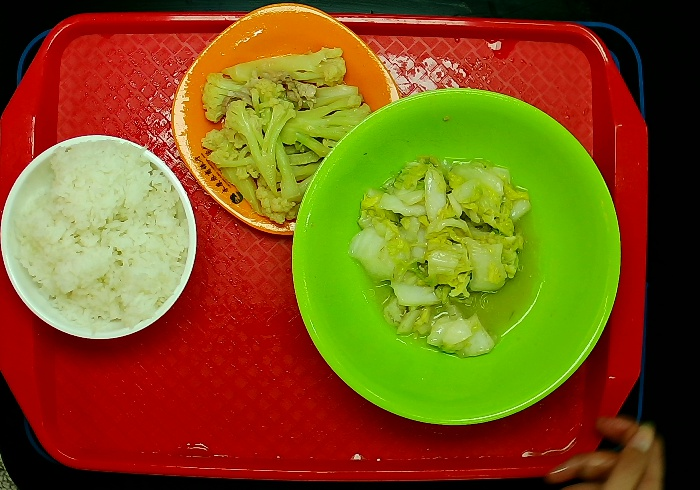YKMZ-Fan_Wan: (1, 133, 212, 343)
YKMZ-Ju_Se_Fang_Die: (175, 4, 405, 239)
YKMZ-Lv_Se_Tang_Wan: (291, 87, 619, 429)
